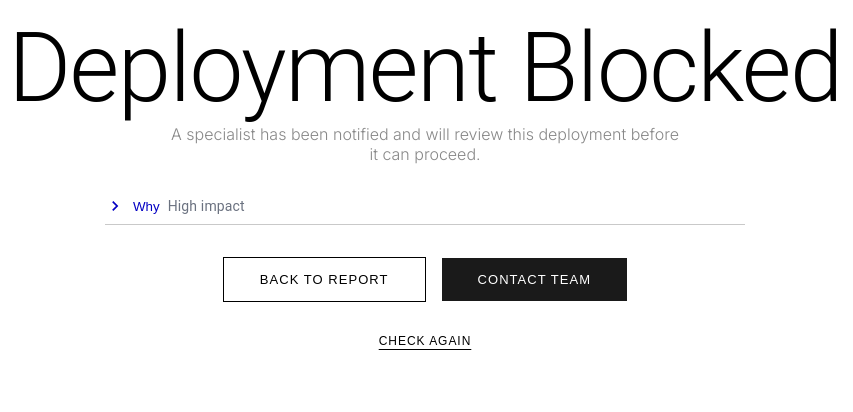
PrApprovalView › blocked state lists the high impact reason
Check: the text "Destroys production resources" is not shown
What coordinates should you click on to do the following:
click the button "Why High impact"
I would click on:
 (206, 206)
Its box is 105,196 -> 745,225.
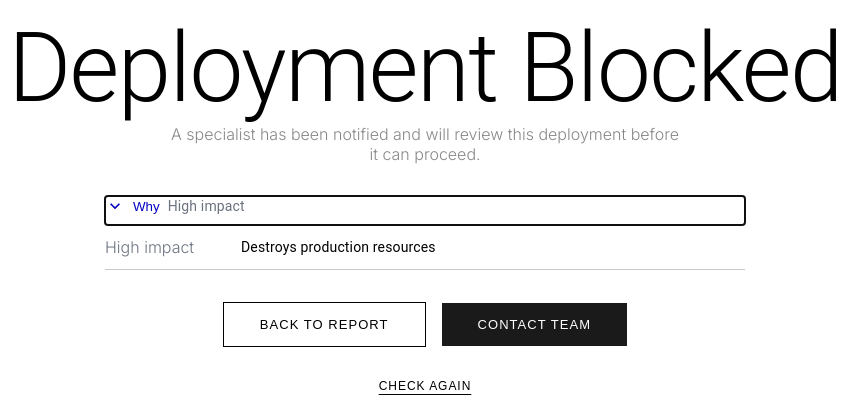
Check: the text "Destroys production resources" is shown, box 241,239 -> 436,255
